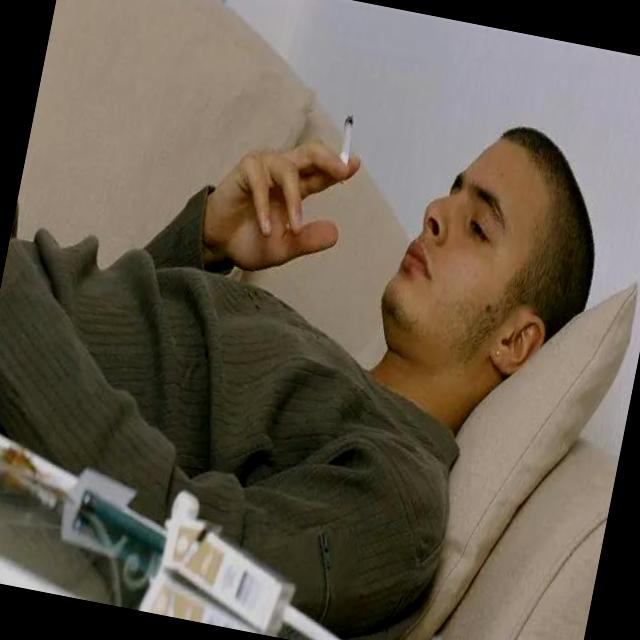smoke: (316, 76, 382, 201)
